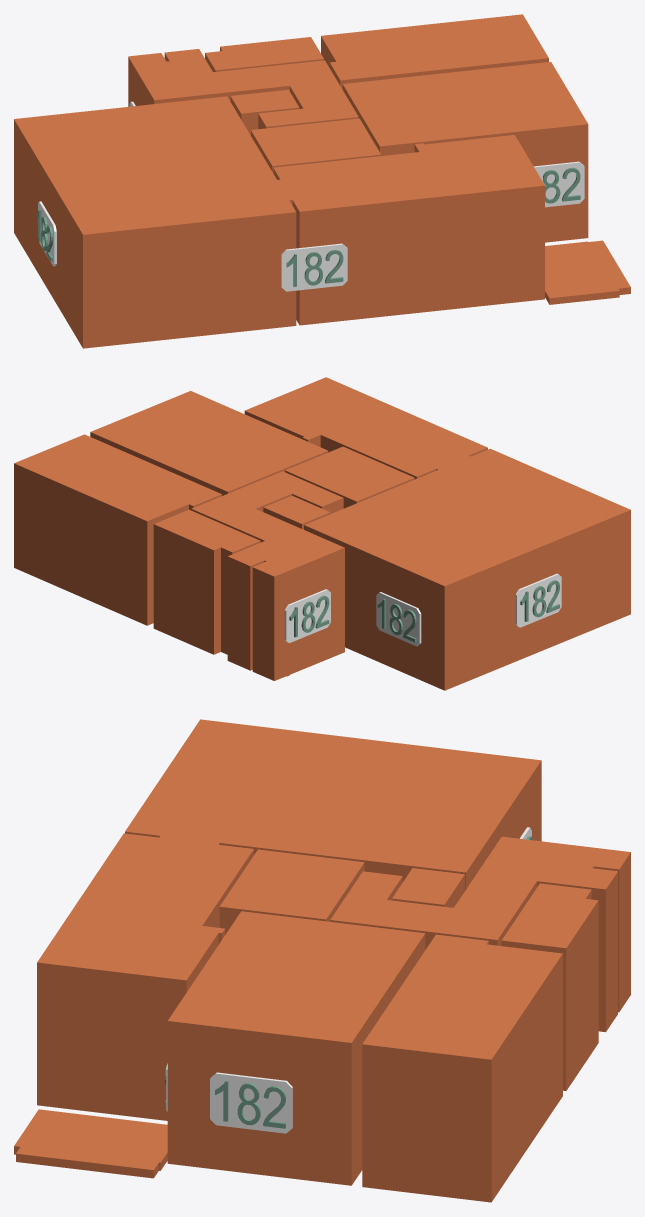
The picture shows the model from 3 angles, top to bottom: view 1: azimuth 30°, elevation 25°; view 2: azimuth 150°, elevation 25°; view 3: azimuth 270°, elevation 25°; orthographic projection. The views are drawn at different scales.
Visible parts, largest first — view 1: g_1, g_0, g_3, g_4, g_7, g_2, g_8, g_5, g_12, g_6, g_20; view 2: g_1, g_4, g_7, g_3, g_0, g_5, g_2, g_28, g_16, g_24, g_6; view 3: g_3, g_1, g_4, g_0, g_7, g_5, g_8, g_2, g_32, g_6.
Part boxes in pixels (box(x1,y1,x2,y2)): g_1: box(14, 96, 296, 348); g_0: box(273, 135, 544, 325); g_3: box(342, 62, 588, 242); g_4: box(321, 14, 548, 89); g_7: box(128, 49, 358, 129); g_2: box(251, 118, 381, 172); g_8: box(545, 240, 630, 304); g_5: box(205, 37, 323, 72); g_12: box(281, 243, 347, 291); g_6: box(230, 90, 299, 135); g_20: box(534, 161, 584, 207); g_1: box(304, 448, 630, 690); g_4: box(14, 434, 221, 625); g_7: box(191, 471, 344, 680); g_3: box(90, 391, 328, 495); g_0: box(244, 377, 487, 479); g_5: box(153, 509, 260, 654); g_2: box(285, 446, 414, 508); g_28: box(515, 573, 561, 627); g_16: box(284, 589, 330, 642); g_24: box(376, 592, 421, 646); g_6: box(263, 495, 330, 529); g_3: box(167, 911, 425, 1185); g_1: box(125, 719, 541, 890); g_4: box(362, 934, 562, 1202); g_0: box(37, 833, 253, 1120); g_7: box(330, 836, 630, 1032); g_5: box(501, 883, 598, 1090); g_8: box(14, 1109, 167, 1178); g_2: box(219, 849, 364, 934); g_32: box(210, 1072, 292, 1133); g_6: box(392, 868, 464, 907).
Size of the model in its own units: 13.16 by 2.74 by 10.08.
